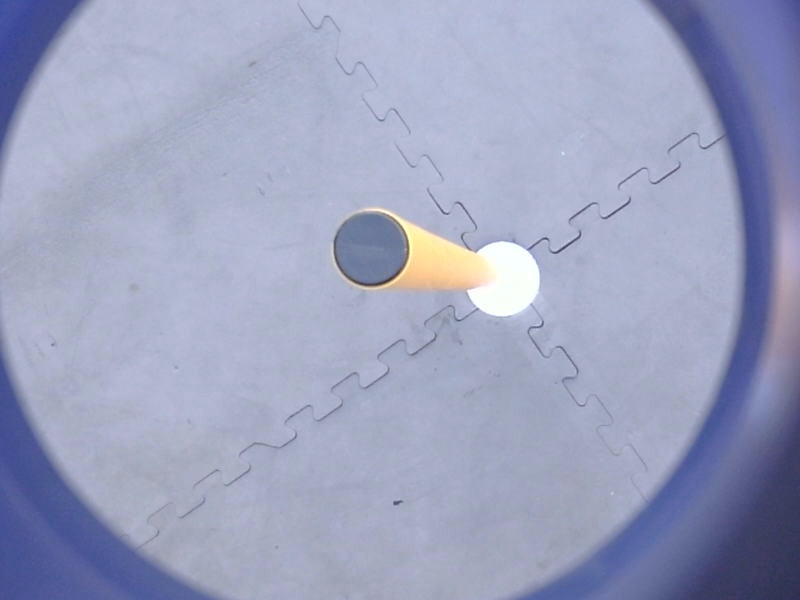tip: (327, 204, 416, 296)
